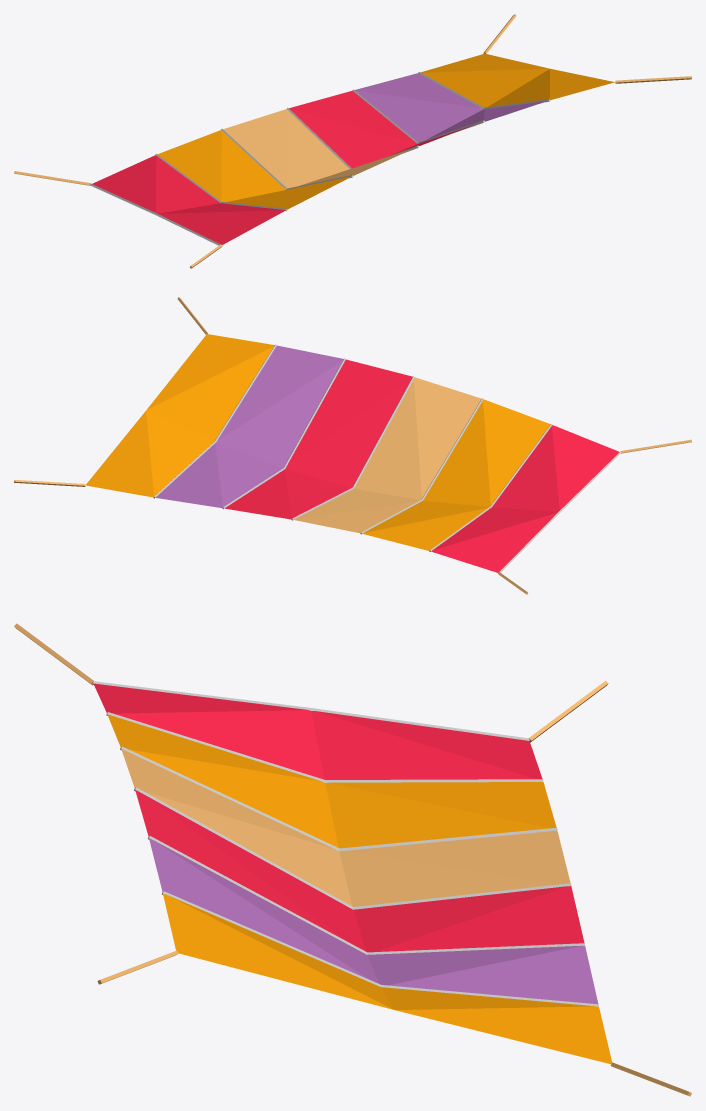
The model's file is PatchworkFly.obj.
3 renders of one model, top to bottom at view 1: azimuth 30°, elevation 25°; view 2: azimuth 150°, elevation 25°; view 3: azimuth 270°, elevation 25°, orthographic. The views are drawn at different scales.
Visible parts, largest first — view 1: PatchworkFly; view 2: PatchworkFly; view 3: PatchworkFly.
Boxes of the visible parts, bbox=[...] form: PatchworkFly: bbox=[14, 14, 691, 268]; PatchworkFly: bbox=[14, 297, 691, 594]; PatchworkFly: bbox=[14, 623, 691, 1096].
Size of the model in its own units: 7.93 by 1.27 by 5.28.
Materials: 1 (1 with a texture image).
